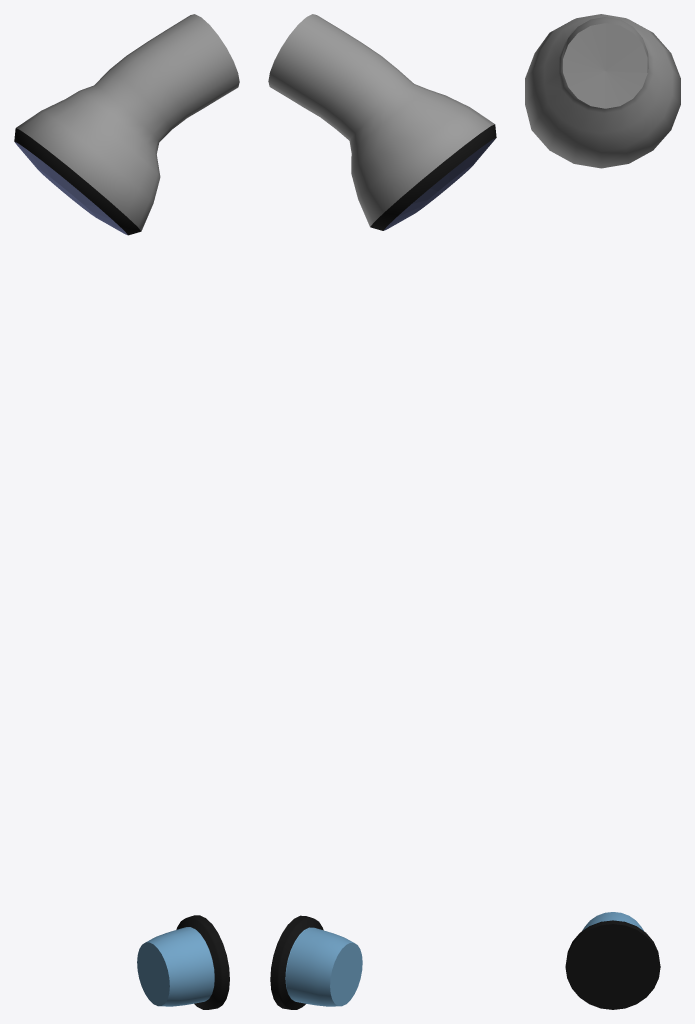
Rendered from SM_Shower.FBX.
The picture shows the model from 3 angles, left to right: view 1: azimuth 30°, elevation 25°; view 2: azimuth 150°, elevation 25°; view 3: azimuth 270°, elevation 25°; orthographic projection.
Visible parts, largest first — view 1: tap; view 2: tap; view 3: tap.
Part boxes in pixels (<box>): tap: <box>14,14,239,1009</box>; tap: <box>268,14,496,1009</box>; tap: <box>525,14,680,1009</box>.
Size of the model in its own units: 14.75 by 69.38 by 9.96.
